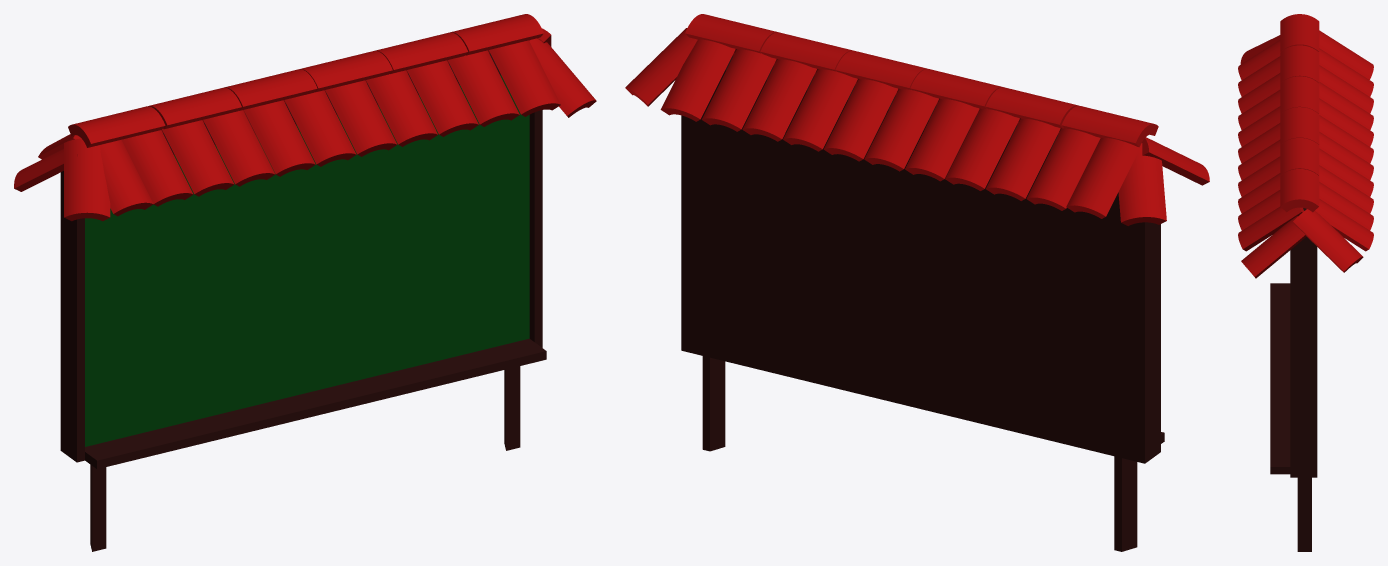
The model's file is Board.fbx.
The picture shows the model from 3 angles, left to right: view 1: azimuth 30°, elevation 25°; view 2: azimuth 150°, elevation 25°; view 3: azimuth 270°, elevation 25°; orthographic projection. The views are drawn at different scales.
Visible parts, largest first — view 1: Plane001, Box002, Box032, Box016, Box014, Box010, Box018, Box008, Box004, Box006, Box017, Box023 (+10 smaller); view 2: Box002, Box021, Box015, Box011, Box013, Box019, Box007, Box009, Box020, Box022, Box003, Box005 (+9 smaller); view 3: Box002, Box035, Box034, Box026, Box031, Box030, Box027, Box029, Box028, Box023, Box022, Box003 (+20 smaller).
Boxes of the visible parts, x1,y1,x2,y2 form: Plane001: (85,75,529,446); Box002: (60,53,546,551); Box032: (64,138,110,221); Box016: (447,50,519,126); Box014: (325,80,397,156); Box010: (243,100,315,176); Box018: (366,70,437,146); Box008: (203,110,275,186); Box004: (121,130,193,206); Box006: (162,120,234,196); Box017: (407,60,478,136); Box023: (489,40,560,116); Box002: (681,56,1164,551); Box021: (701,49,776,131); Box015: (823,79,898,161); Box011: (905,99,979,181); Box013: (864,89,938,171); Box019: (783,69,857,151); Box007: (986,118,1060,200); Box009: (945,108,1019,190); Box020: (742,59,816,141); Box022: (660,39,735,121); Box003: (1066,138,1140,218); Box005: (1026,128,1100,210); Box002: (1270,208,1317,551); Box035: (1293,209,1363,272); Box034: (1241,216,1306,278); Box026: (1280,169,1319,212); Box031: (1280,14,1319,51); Box030: (1280,45,1319,82); Box027: (1280,138,1319,175); Box029: (1280,76,1319,113); Box028: (1280,107,1319,144); Box023: (1238,206,1303,251); Box022: (1315,199,1373,251); Box003: (1319,30,1373,79).
Size of the model in its own units: 29.02 by 21.9 by 7.53.
